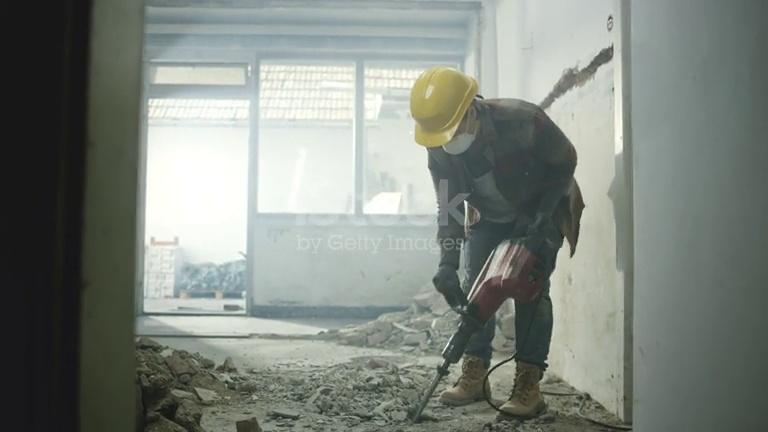helmet: (409, 66, 478, 148)
mask: (442, 133, 476, 155)
person: (408, 65, 586, 420)
